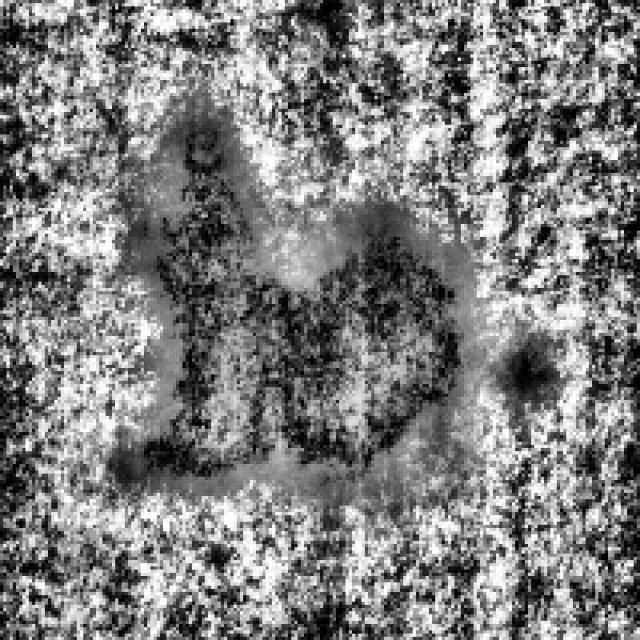Scratches: (125, 115, 461, 477)
